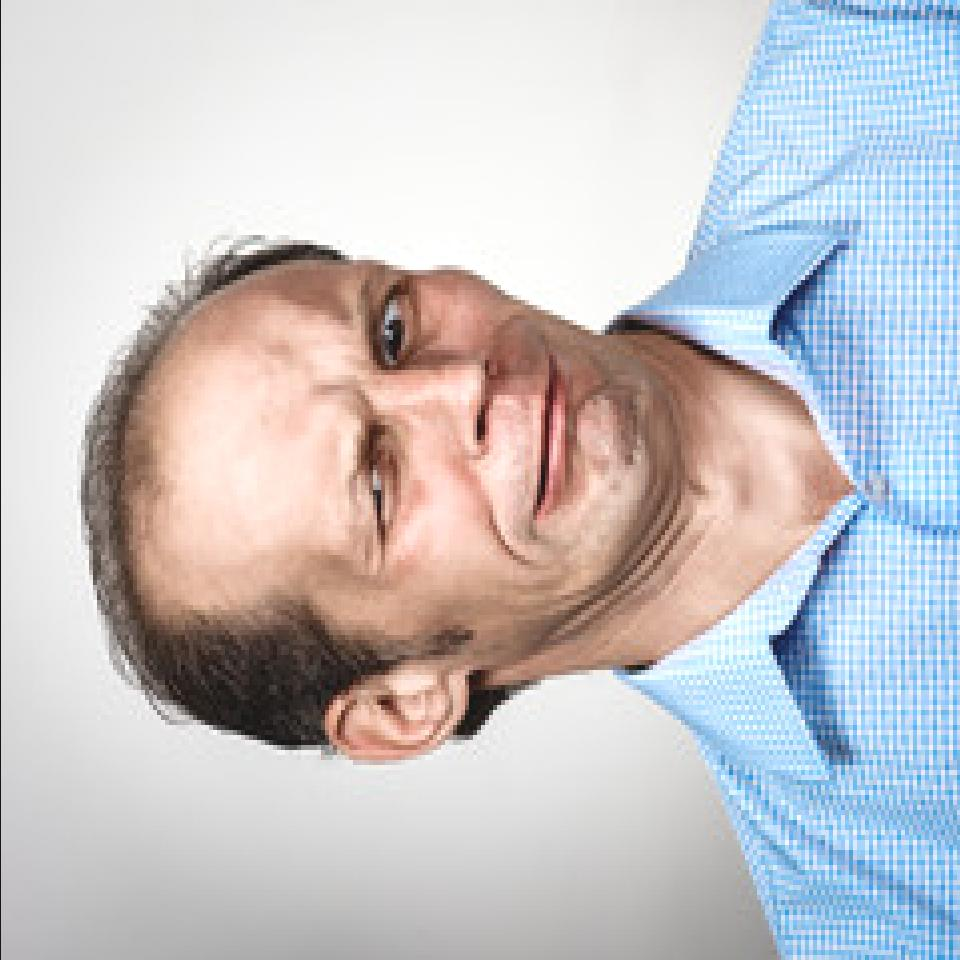Disgust: (197, 266, 657, 658)
